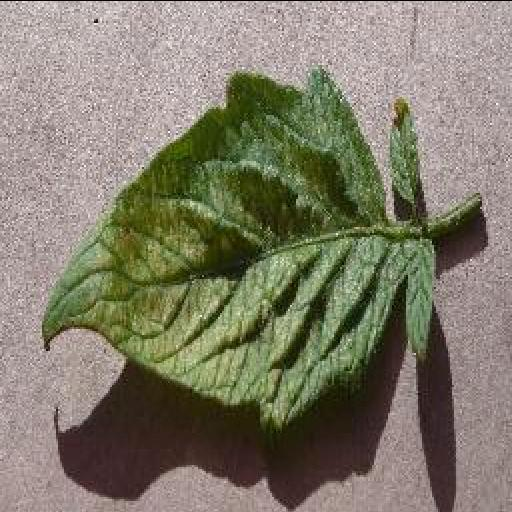disease_tomato: (41, 70, 399, 426)
